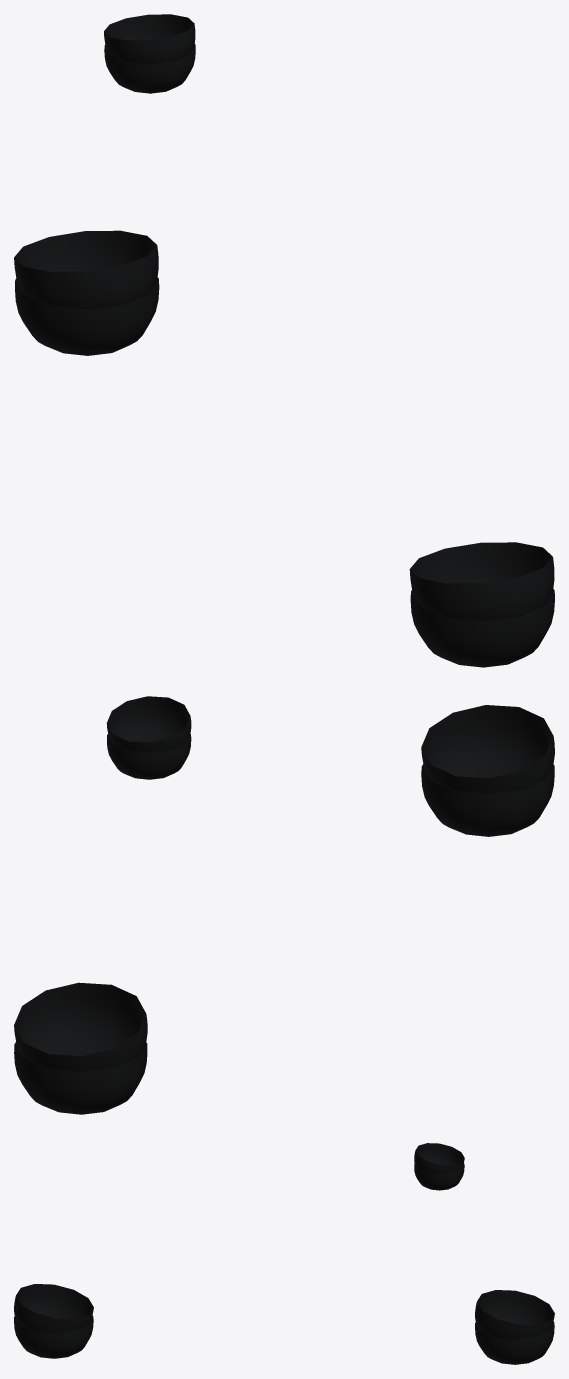
The model's file is MetalPlate.FBX.
3 renders of one model, top to bottom at view 1: azimuth 30°, elevation 25°; view 2: azimuth 150°, elevation 25°; view 3: azimuth 270°, elevation 25°, orthographic. The views are drawn at different scales.
Visible parts, largest first — view 1: MetalPlate (×3); view 2: MetalPlate (×3); view 3: MetalPlate (×3).
Part boxes in pixels (bbox=[...]): MetalPlate (×3): bbox=[14, 14, 554, 667]; MetalPlate (×3): bbox=[14, 696, 554, 1114]; MetalPlate (×3): bbox=[14, 1143, 554, 1364].
Size of the model in its own units: 0.7349 by 1.77 by 4.22.
1 material, 1 textured.
